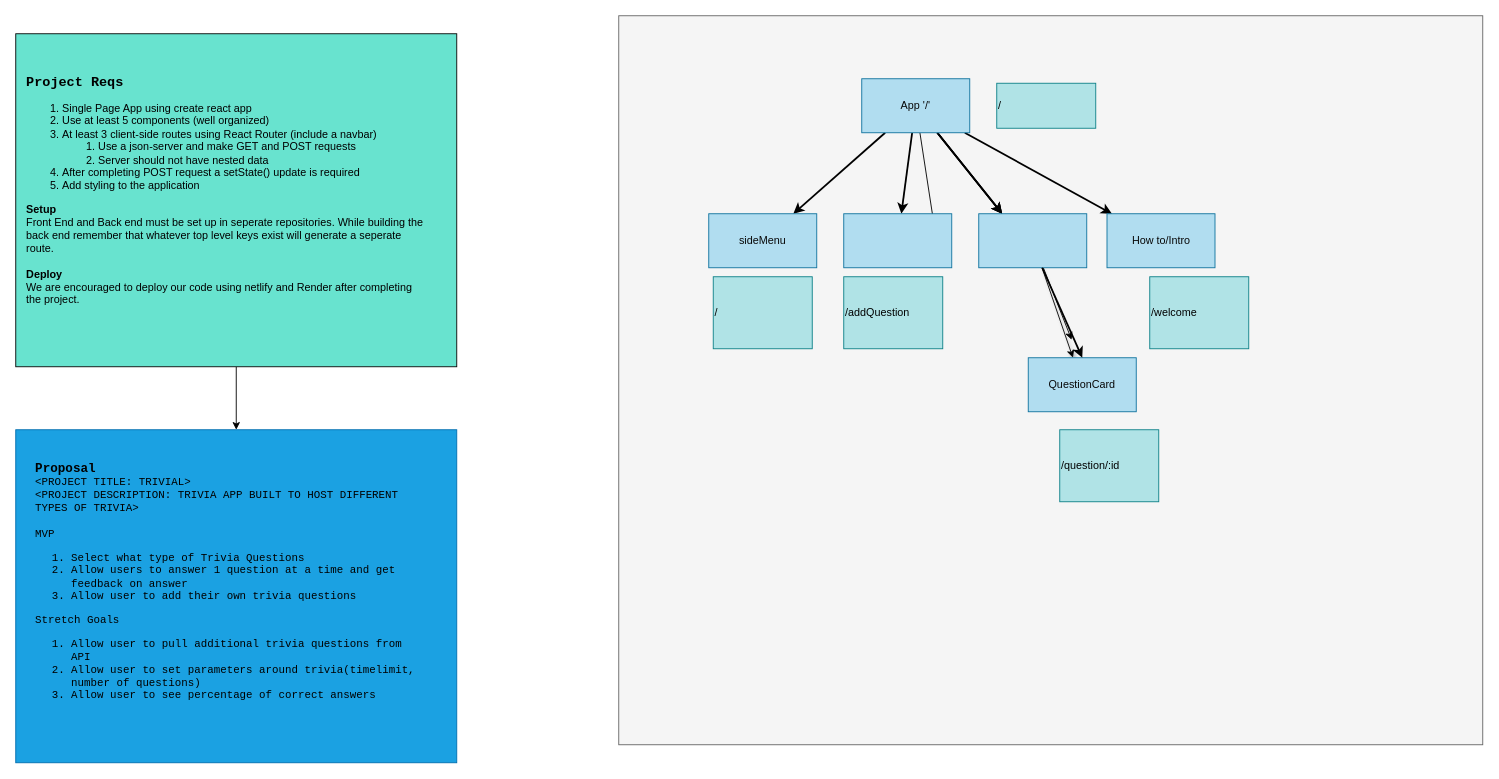
Some shapes in this 1499 by 779 pixel diagram are drawn without their labels. The shapes that lost their labels are listed below. From the top down, each one's centre as x and y in pixels, then its label:
At (x=897, y=240): "New Question".
At (x=1032, y=240): "Question".
